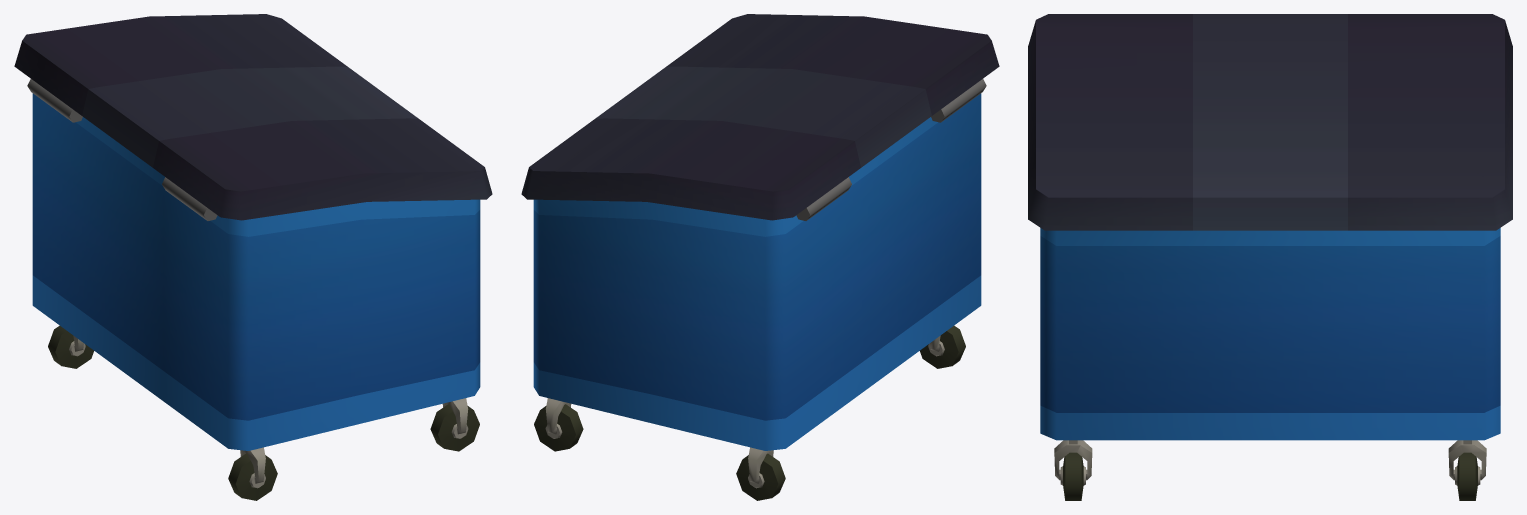
File: BinB.fbx
The picture shows the model from 3 angles, left to right: view 1: azimuth 30°, elevation 25°; view 2: azimuth 150°, elevation 25°; view 3: azimuth 270°, elevation 25°; orthographic projection. The views are drawn at different scales.
Parts seen in each view (by area): view 1: BinB, BinC_B; view 2: BinB, BinC_B; view 3: BinC_B, BinB.
Part boxes in pixels (x1,y1,x2,y2): BinB: [32, 93, 480, 500]; BinC_B: [14, 14, 492, 220]; BinB: [533, 93, 981, 500]; BinC_B: [521, 14, 999, 220]; BinC_B: [1028, 14, 1512, 230]; BinB: [1040, 228, 1500, 500].
Size of the model in its own units: 96.14 by 110 by 135.
